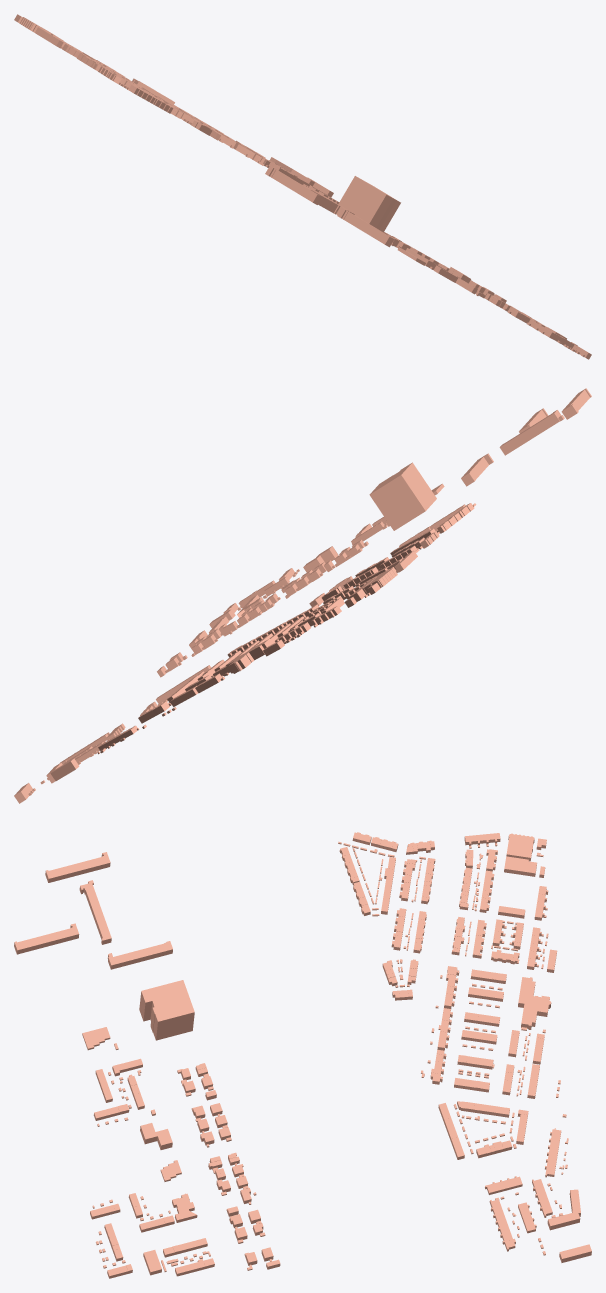
3 renders of one model, top to bottom at view 1: azimuth 30°, elevation 25°; view 2: azimuth 150°, elevation 25°; view 3: azimuth 270°, elevation 25°, orthographic. The views are drawn at different scales.
Bounding box in the file's own units: 515 × 380 × 718.
